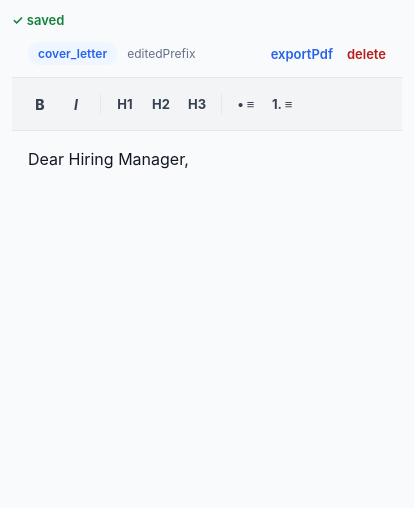
Test: DocumentDraftEditorScreen › toggles a heading prefix on the current line from the toolbar
Click the element with test id "toolbar-h1" at point(125, 104), box [117,96,133,112]
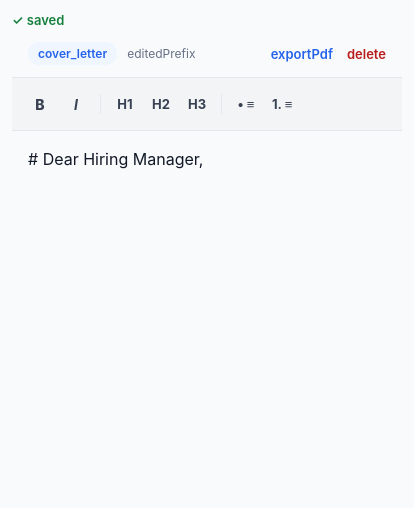
Now the text box with test id "draft-content-input" holds "# Dear Hiring Manager,"
